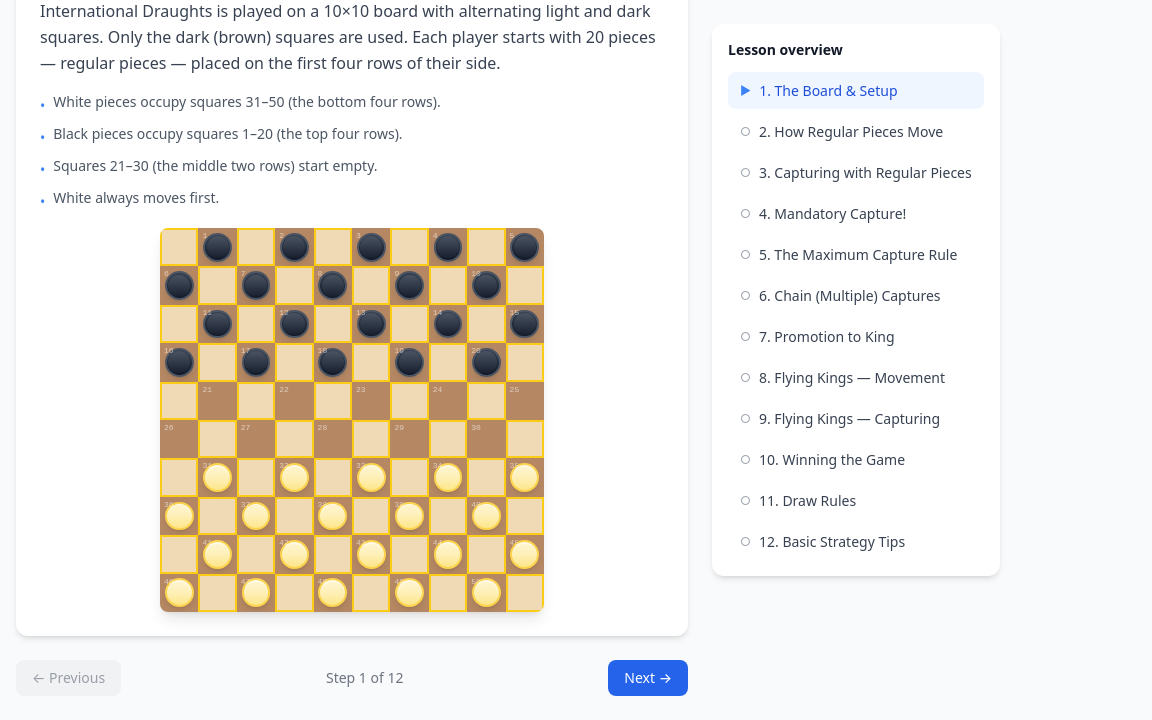
it: LearnPage › advances to next step when Next is clicked
The image size is (1152, 720).
(page scrolled)
Click the button "Next →": (648, 678) [608,660,688,696]
(page scrolled)
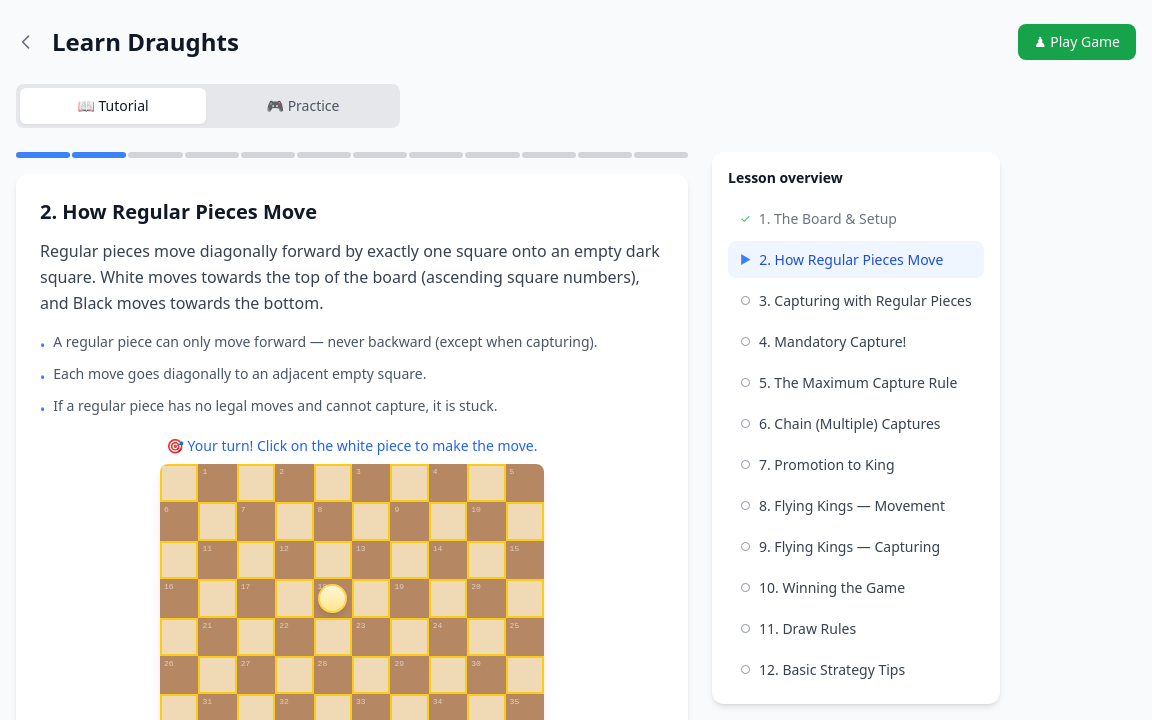
Now the heading "2. How Regular Pieces Move" is shown, box [40,198,317,225]
